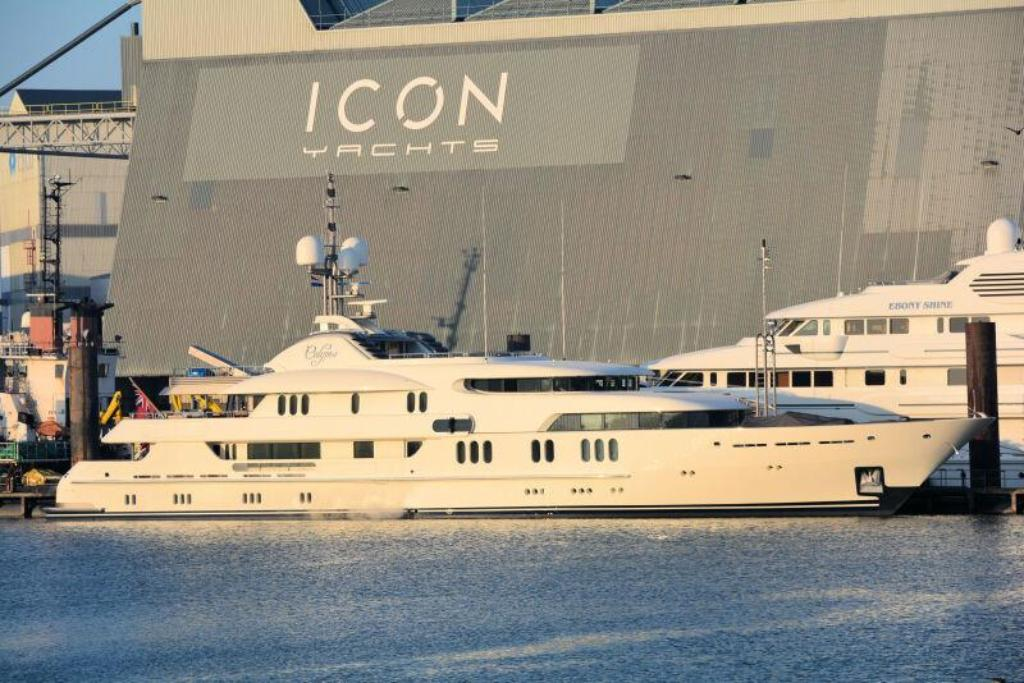PassengerShip: (38, 165, 992, 527), (634, 209, 1024, 504)
